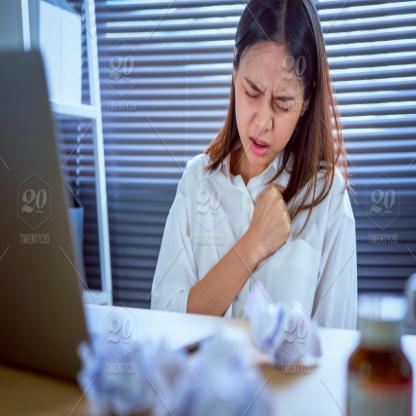pain: (233, 66, 298, 122)
